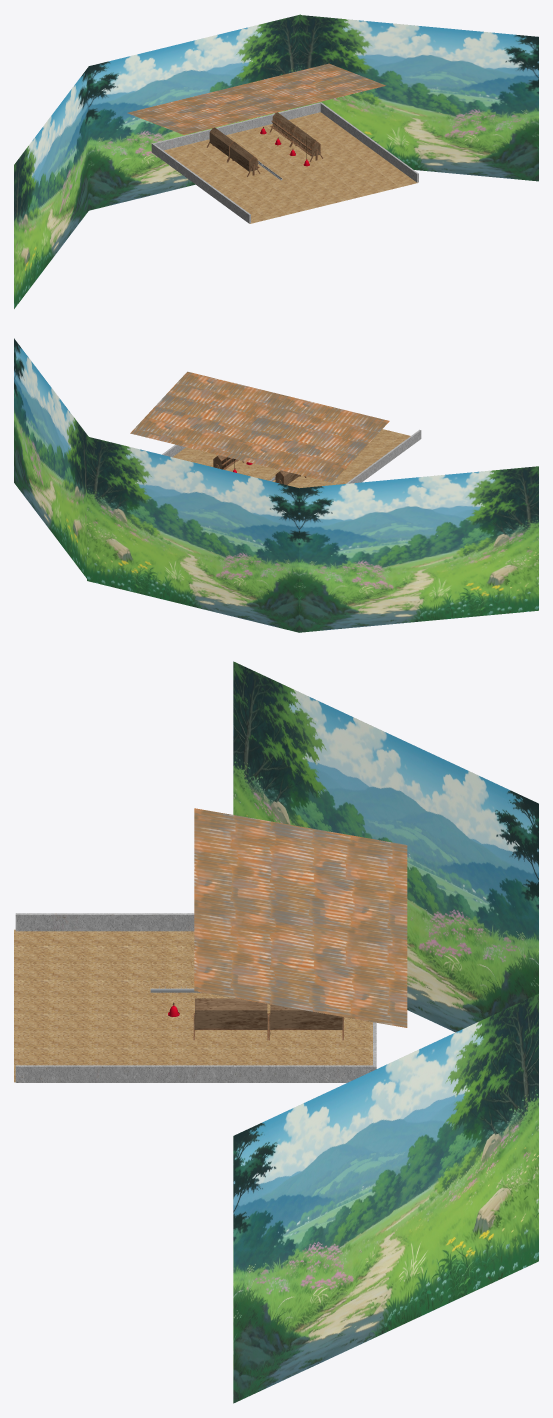
Rendered from Galpon.glb.
The picture shows the model from 3 angles, top to bottom: view 1: azimuth 30°, elevation 25°; view 2: azimuth 150°, elevation 25°; view 3: azimuth 270°, elevation 25°; orthographic projection. The views are drawn at different scales.
Parts seen in each view (by area): view 1: Plane.003, Plane, Suelo, Plane.004, techo1, Muro, base.004, base.002, base.007; view 2: Plane.004, Plane, techo1, Plane.003, Suelo, Muro; view 3: Plane.003, Plane.004, techo1, Suelo, Muro, base.002, base.006.
Part boxes in pixels (x1,y1,x2,y2): Plane.003: (299, 15, 538, 181); Plane: (89, 14, 300, 210); Suelo: (164, 112, 417, 223); Plane.004: (14, 66, 88, 308); techo1: (127, 63, 385, 134); Muro: (151, 102, 418, 223); base.004: (230, 141, 257, 171); base.002: (292, 126, 320, 156); base.007: (209, 127, 233, 156); Plane.004: (299, 466, 538, 632); Plane: (87, 436, 299, 632); techo1: (130, 371, 389, 482); Plane.003: (14, 338, 88, 578); Suelo: (173, 429, 410, 488); Muro: (162, 429, 421, 483); Plane.003: (233, 994, 538, 1403); Plane.004: (233, 661, 538, 1032); techo1: (194, 808, 407, 1027); Suelo: (14, 929, 372, 1082); Muro: (15, 913, 376, 1082); base.002: (195, 998, 267, 1029); base.006: (270, 1004, 342, 1029).
Bounding box in the file's own units: 62.21 × 16.37 × 29.09.
9 materials, 6 textured.
